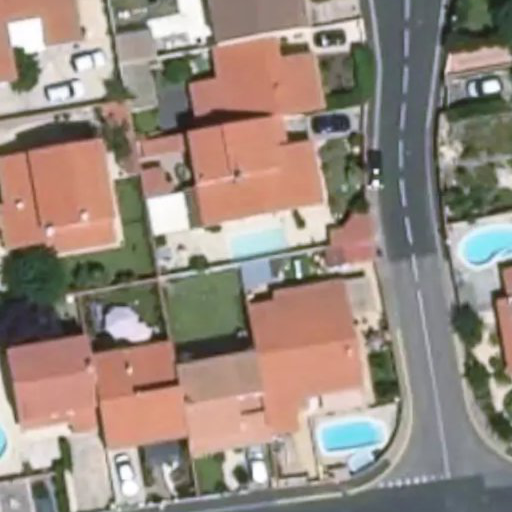pool: (227, 234, 284, 249)
